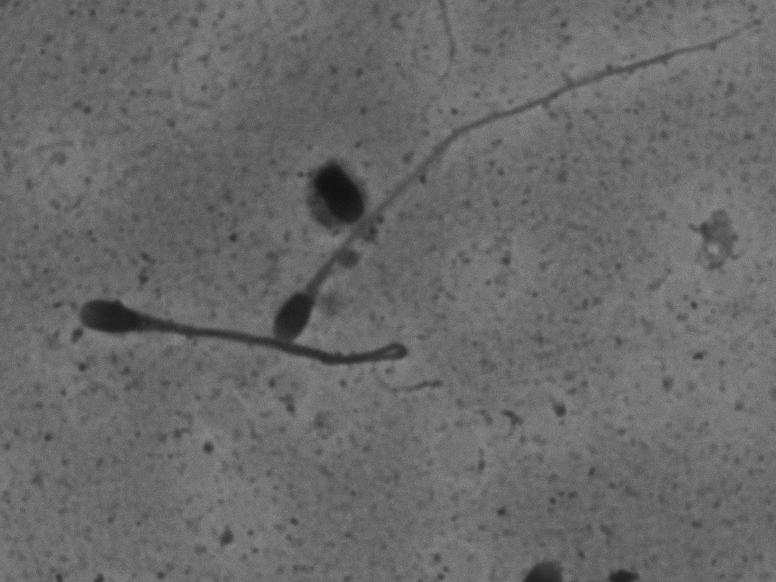Abnormal: (261, 14, 758, 345), (58, 284, 423, 385)
